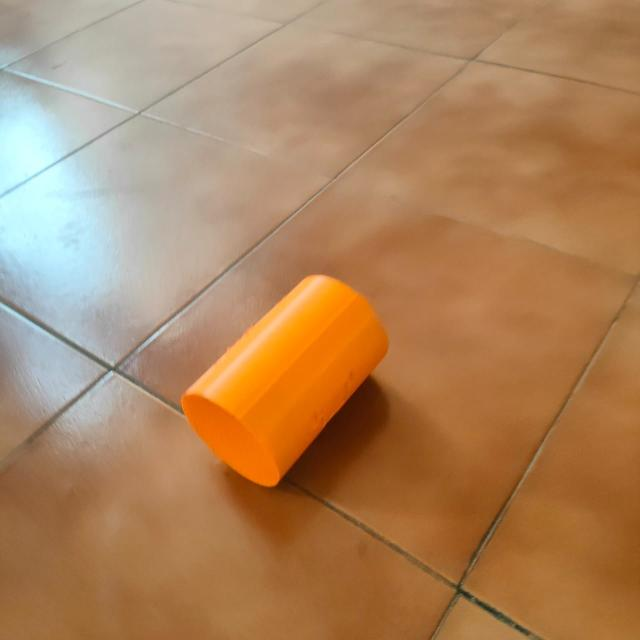Cylinder: (180, 272, 390, 488)
